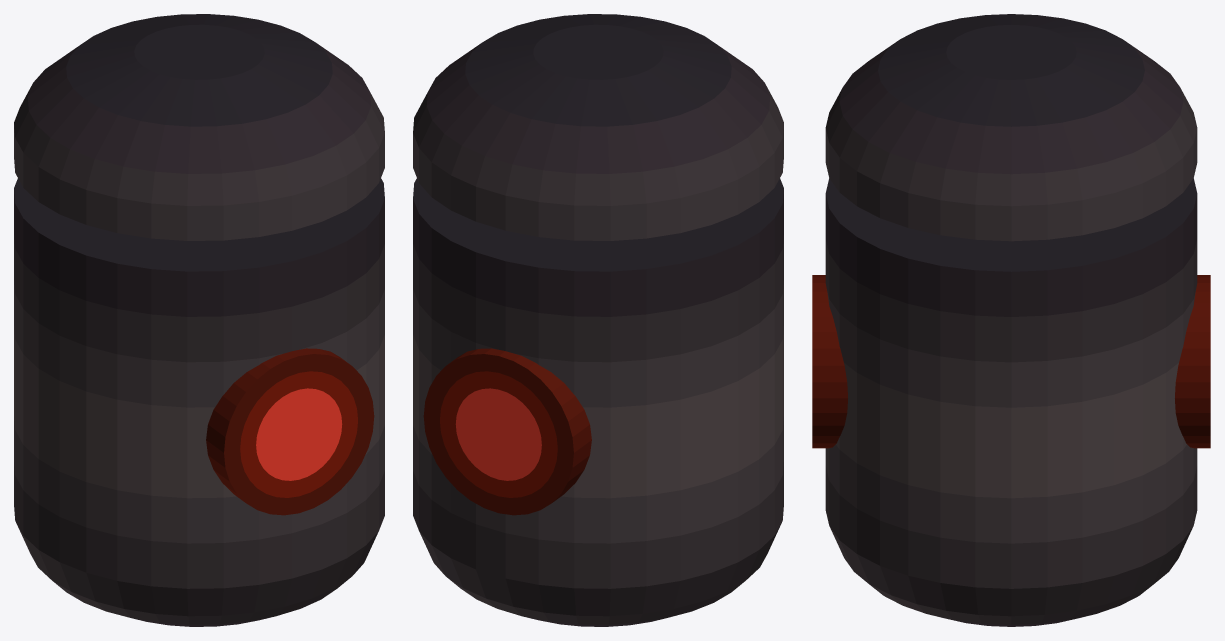
The model's file is placeholder_low.gltf.
3 views of the same model, side by side, from view 1: azimuth 30°, elevation 25°; view 2: azimuth 150°, elevation 25°; view 3: azimuth 270°, elevation 25° (orthographic).
Visible parts, largest first — view 1: Cylinder.002; view 2: Cylinder.002; view 3: Cylinder.002.
Boxes of the visible parts, x1=… form: Cylinder.002: x1=14, y1=14, x2=384, y2=626; Cylinder.002: x1=413, y1=14, x2=783, y2=626; Cylinder.002: x1=812, y1=14, x2=1210, y2=626.
Bounding box in the file's own units: 2 × 3.21 × 2.14.
